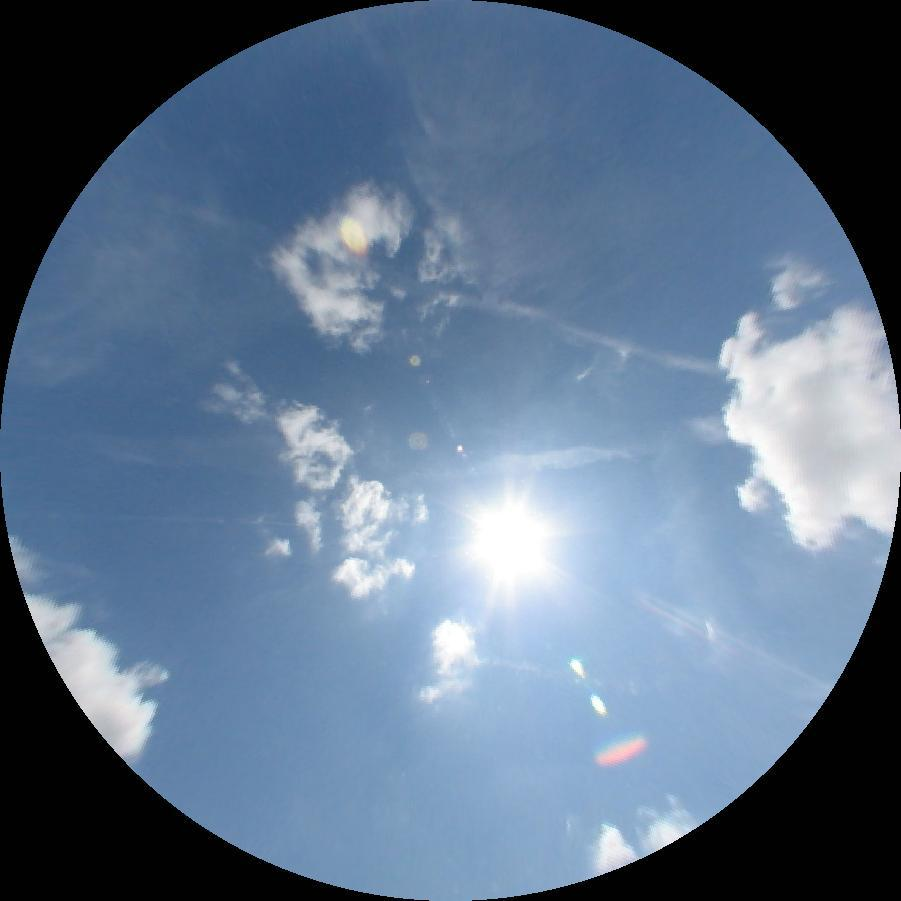contrail veryold: (457, 288, 723, 381), (388, 439, 637, 489)
parasite: (6, 509, 297, 526)
sun: (483, 504, 553, 568)
